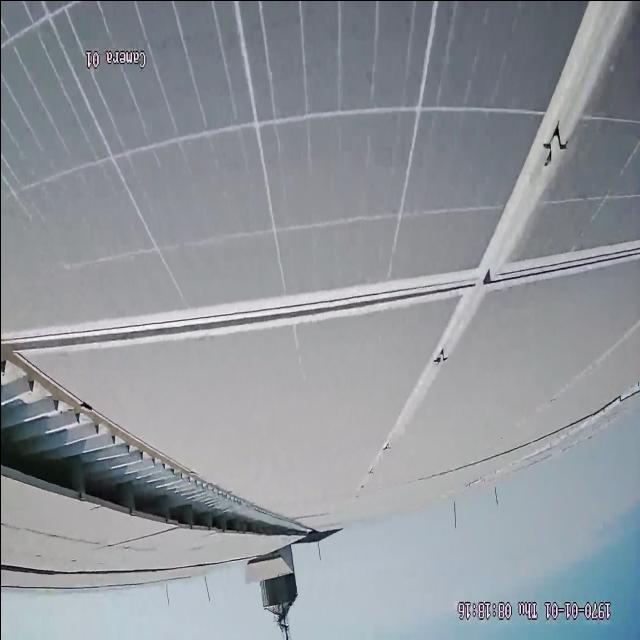interior panel: (8, 7, 640, 485)
outher panel: (0, 341, 309, 533)
